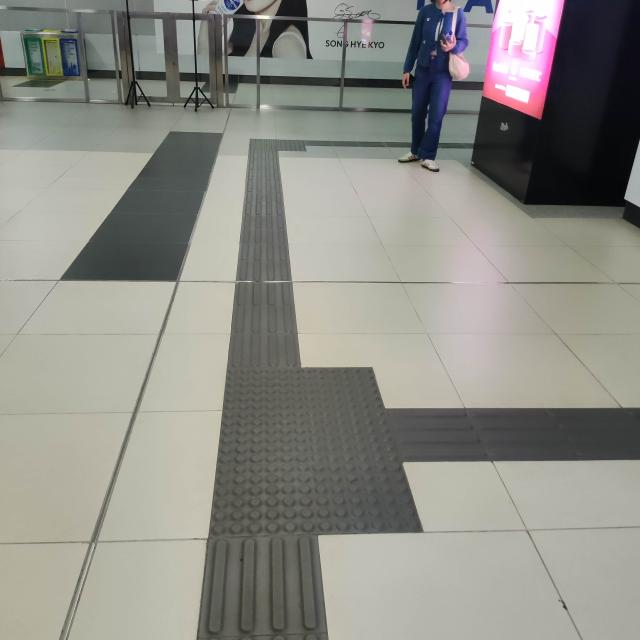kanan: (245, 133, 338, 157)
